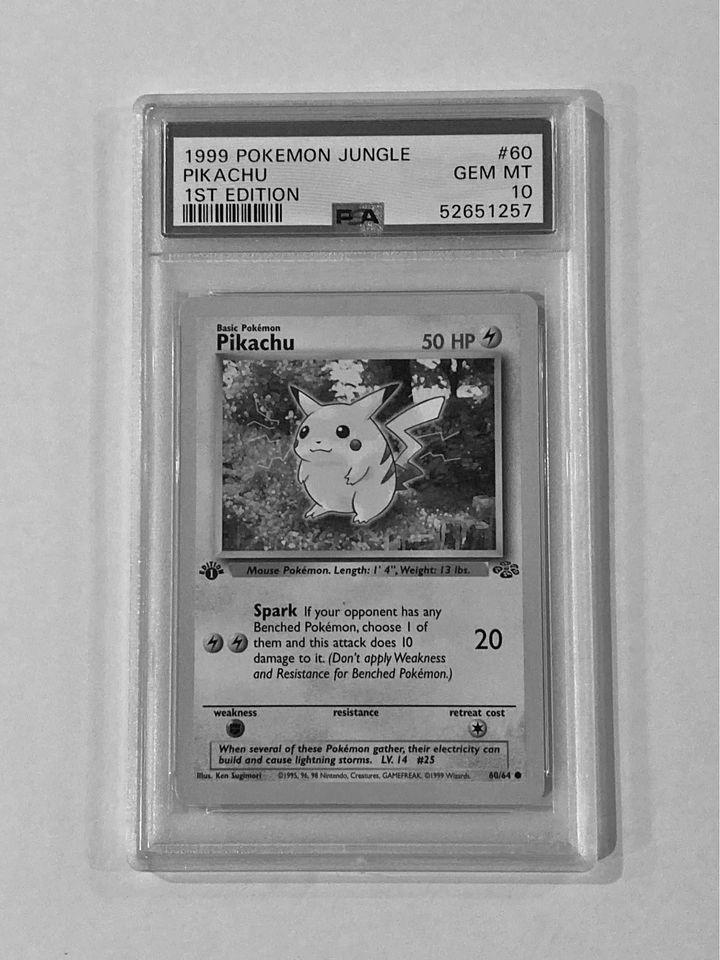card: (175, 293, 546, 806)
